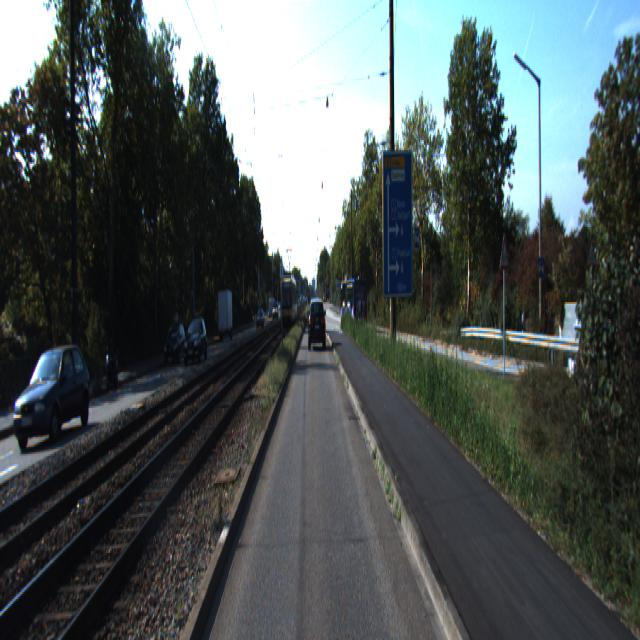Car: (12, 338, 93, 452), (340, 278, 368, 330), (182, 317, 208, 368), (163, 323, 187, 368), (308, 299, 324, 350), (216, 290, 232, 341), (104, 348, 122, 393)
